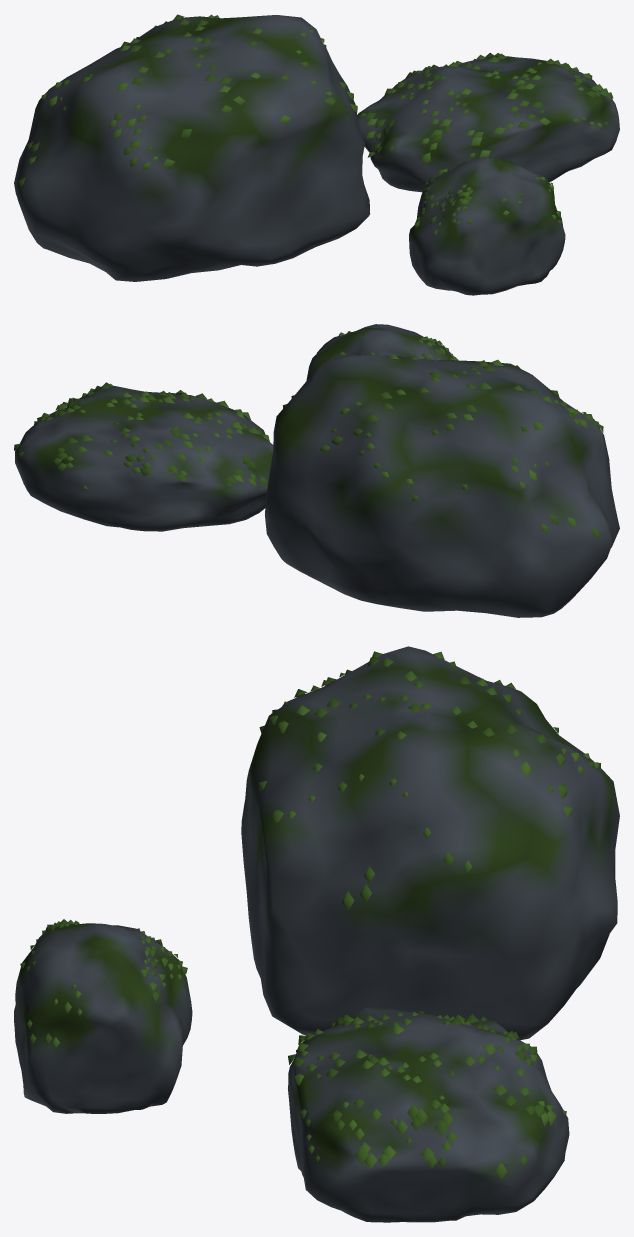
Rendered from forest-rocks-pack.glb.
3 views of the same model, one above another, from view 1: azimuth 30°, elevation 25°; view 2: azimuth 150°, elevation 25°; view 3: azimuth 270°, elevation 25° (orthographic). The views are drawn at different scales.
Visible parts, largest first — view 1: Boulder_Stone.001, Flat_Stone_Stone.001, Small_Rock_Stone.001, Flat_Stone_Moss.001, Boulder_Moss.001, Small_Rock_Moss.001; view 2: Boulder_Stone.001, Flat_Stone_Stone.001, Flat_Stone_Moss.001, Small_Rock_Stone.001, Boulder_Moss.001; view 3: Boulder_Stone.001, Flat_Stone_Stone.001, Small_Rock_Stone.001, Flat_Stone_Moss.001, Boulder_Moss.001, Small_Rock_Moss.001.
Boxes of the visible parts, x1,y1,x2,y2 form: Boulder_Stone.001: [14, 15, 369, 281]; Flat_Stone_Stone.001: [357, 56, 619, 192]; Small_Rock_Stone.001: [409, 157, 565, 295]; Flat_Stone_Moss.001: [360, 53, 613, 175]; Boulder_Moss.001: [18, 14, 357, 187]; Small_Rock_Moss.001: [414, 162, 561, 235]; Boulder_Stone.001: [265, 355, 619, 617]; Flat_Stone_Stone.001: [15, 386, 273, 531]; Flat_Stone_Moss.001: [14, 382, 269, 489]; Small_Rock_Stone.001: [306, 324, 454, 380]; Boulder_Moss.001: [282, 354, 603, 538]; Boulder_Stone.001: [241, 646, 619, 1040]; Flat_Stone_Stone.001: [288, 1007, 569, 1222]; Small_Rock_Stone.001: [14, 923, 192, 1113]; Flat_Stone_Moss.001: [288, 1010, 566, 1179]; Boulder_Moss.001: [258, 651, 600, 910]; Small_Rock_Moss.001: [20, 919, 187, 1048].
Size of the model in its own units: 1.18 by 0.3764 by 0.7787.
